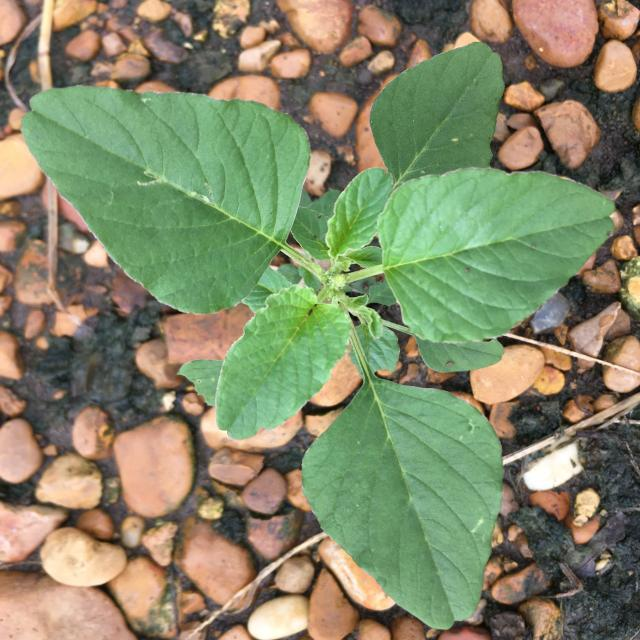PalmerAmaranth: (20, 41, 616, 631)
